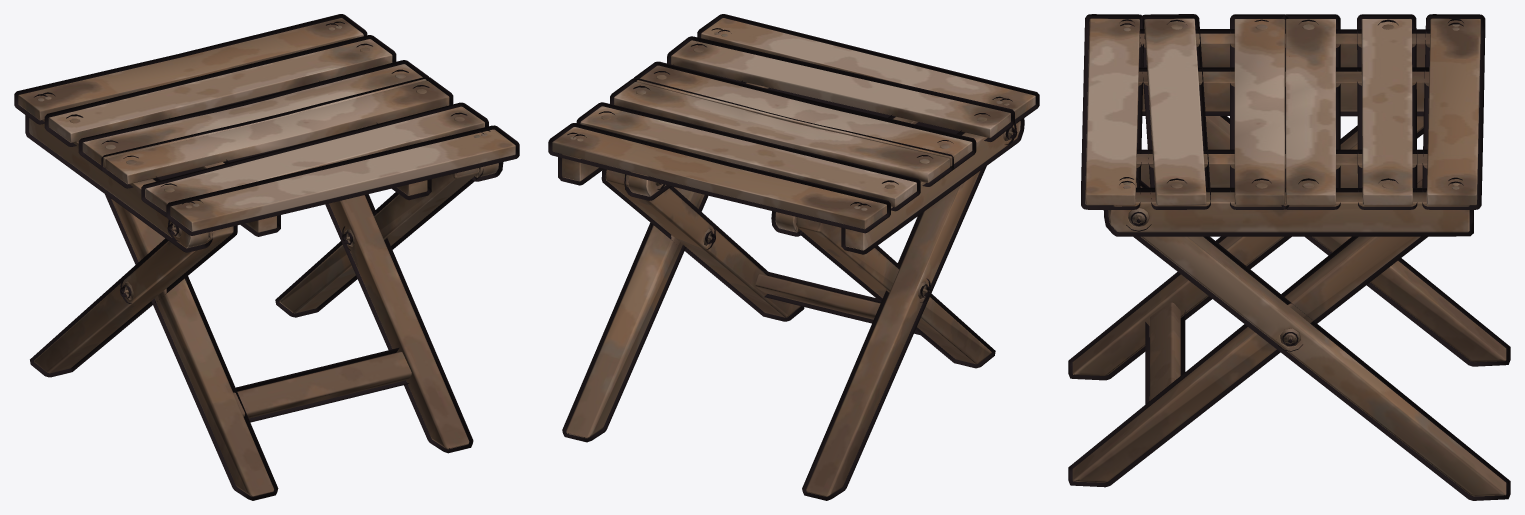
Rendered from SM_Int_FoldingStool.fbx.
The picture shows the model from 3 angles, left to right: view 1: azimuth 30°, elevation 25°; view 2: azimuth 150°, elevation 25°; view 3: azimuth 270°, elevation 25°; orthographic projection. The views are drawn at different scales.
Parts seen in each view (by area): view 1: SM_Int_FoldingStool; view 2: SM_Int_FoldingStool; view 3: SM_Int_FoldingStool.
Part boxes in pixels (x1,y1,x2,y2): SM_Int_FoldingStool: (14, 14, 519, 500); SM_Int_FoldingStool: (548, 14, 1039, 500); SM_Int_FoldingStool: (1068, 14, 1510, 500).
Size of what is drawn, in the model's own units: 0.5393 by 0.4536 by 0.5581.
